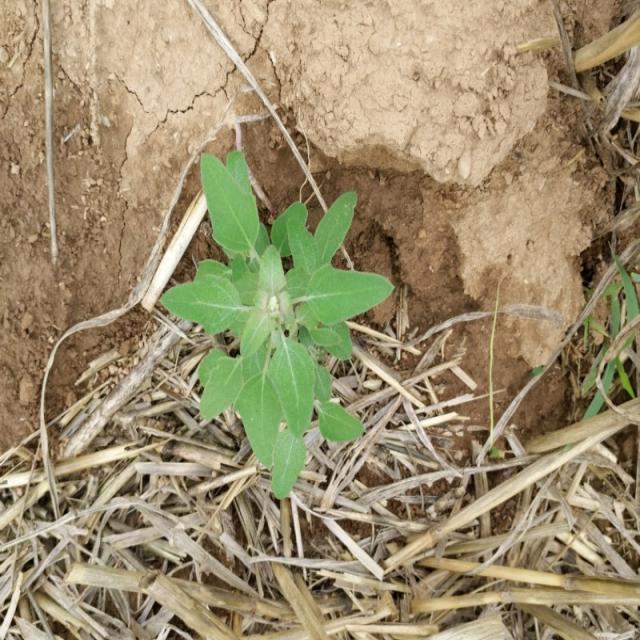ca: (160, 150, 367, 446)
